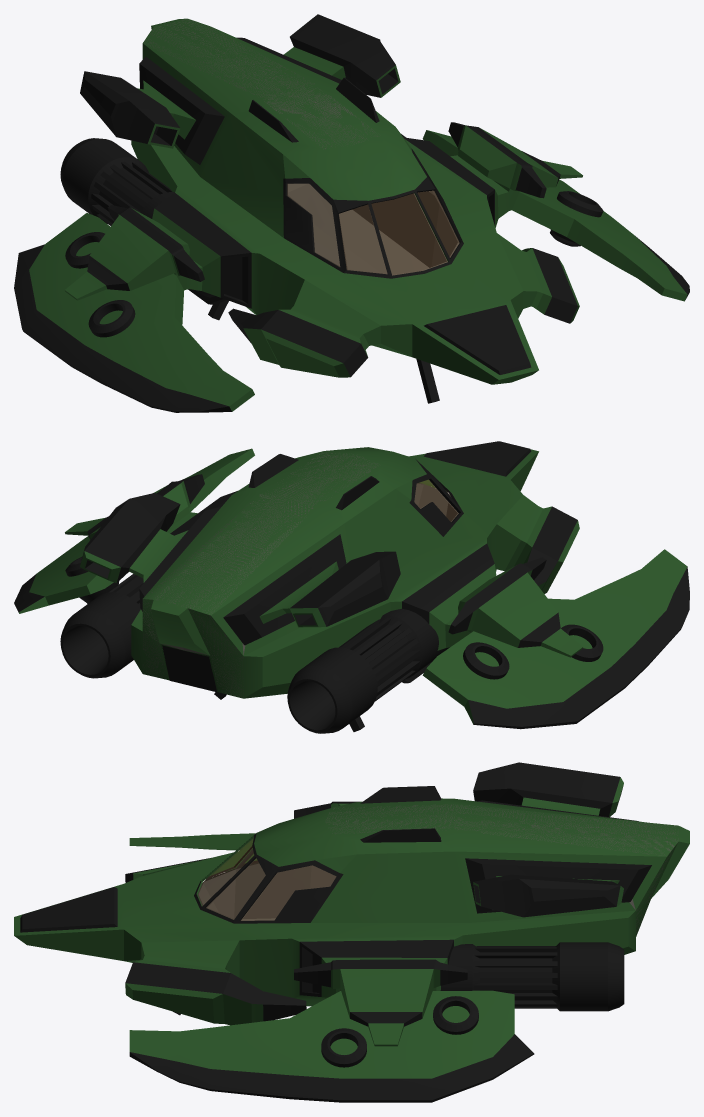
Rendered from ship.gltf.
3 views of the same model, one above another, from view 1: azimuth 30°, elevation 25°; view 2: azimuth 150°, elevation 25°; view 3: azimuth 270°, elevation 25° (orthographic). The views are drawn at different scales.
Visible parts, largest first — view 1: Ship, Interior, Reactor, RollReactor2, RollReactor1; view 2: Ship, Reactor, Interior, HatchUp, RollReactor1, RollReactor2; view 3: Ship, Reactor, Interior, RollReactor2, RollReactor1.
Boxes of the visible parts, box(x1,y1,x2,y2) form: Ship: box(14, 14, 689, 412); Interior: box(144, 19, 459, 275); Reactor: box(60, 134, 405, 304); RollReactor2: box(88, 191, 603, 337); RollReactor1: box(65, 232, 104, 268); Ship: box(14, 441, 689, 729); Reactor: box(60, 574, 449, 733); Interior: box(143, 452, 458, 697); HatchUp: box(162, 645, 217, 691); RollReactor1: box(65, 556, 509, 679); RollReactor2: box(561, 624, 603, 661); Ship: box(14, 762, 689, 1102); Reactor: box(440, 942, 624, 1011); Interior: box(198, 804, 678, 932); RollReactor2: box(321, 1028, 366, 1067); RollReactor1: box(433, 996, 478, 1034).
Size of what is drawn, in the model's own units: 17.41 by 6.64 by 19.22.
